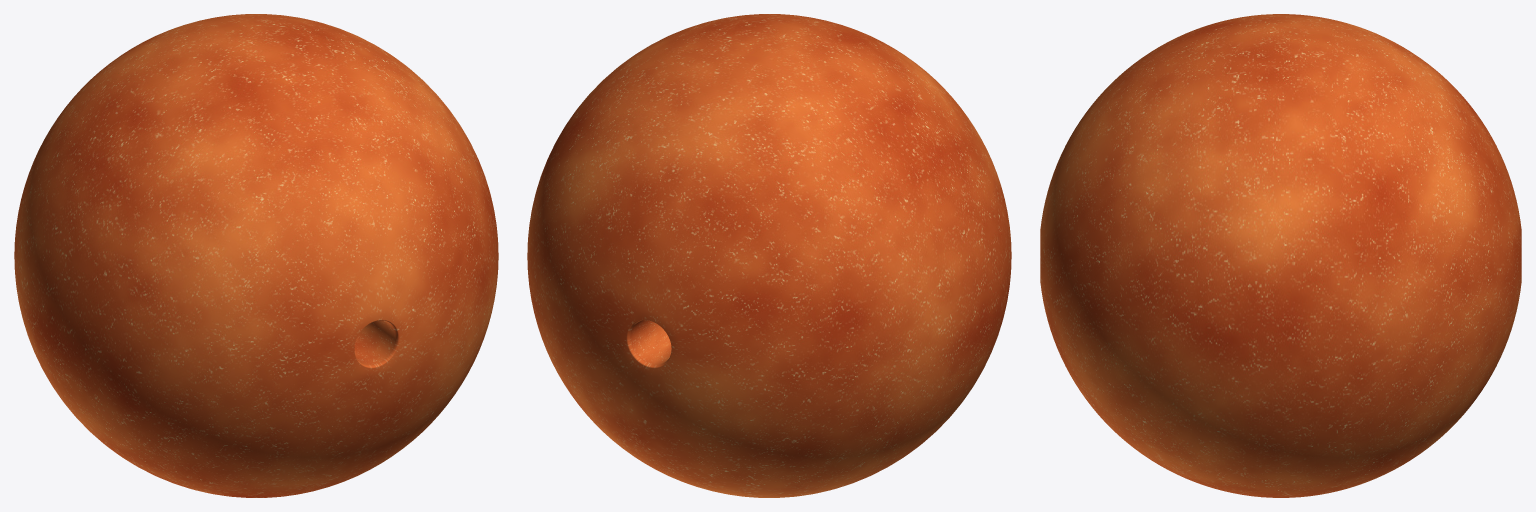
File: sunstone-10mm.glb
3 views of the same model, side by side, from view 1: azimuth 30°, elevation 25°; view 2: azimuth 150°, elevation 25°; view 3: azimuth 270°, elevation 25° (orthographic).
Parts seen in each view (by area): view 1: sunstone.001; view 2: sunstone.001; view 3: sunstone.001.
Boxes of the visible parts, x1,y1,x2,y2 form: sunstone.001: [14, 14, 498, 497]; sunstone.001: [527, 14, 1011, 497]; sunstone.001: [1040, 14, 1521, 497].
Size of the model in its own units: 0.01 by 0.01 by 0.00994.
Materials: 1 (1 with a texture image).
